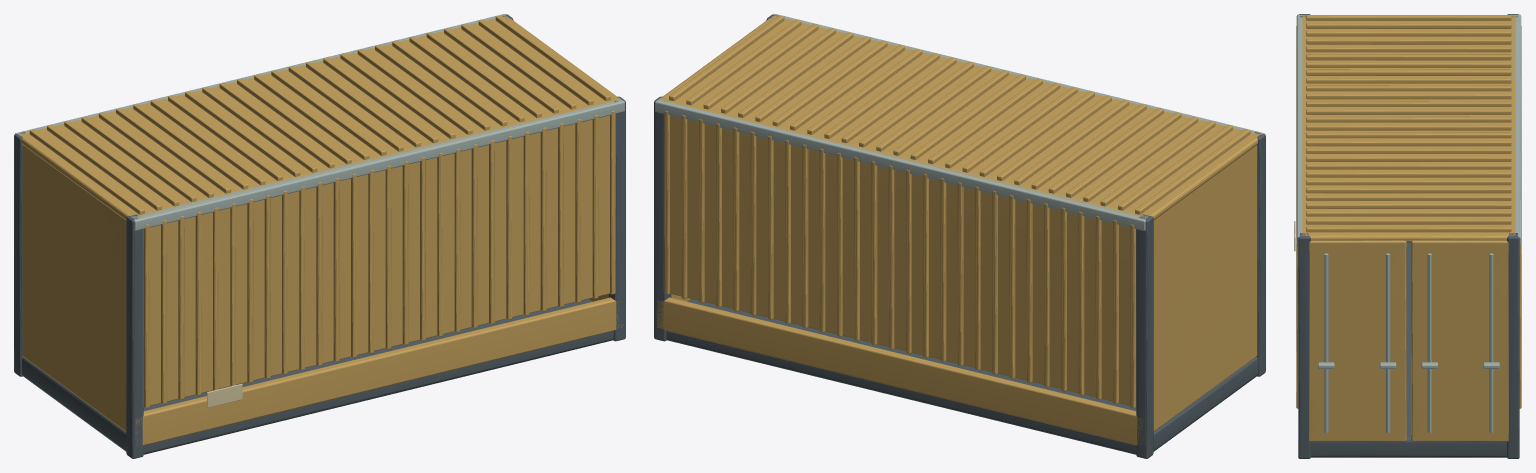
The model's file is container_closed.glb.
The picture shows the model from 3 angles, left to right: view 1: azimuth 30°, elevation 25°; view 2: azimuth 150°, elevation 25°; view 3: azimuth 270°, elevation 25°; orthographic projection. The views are drawn at different scales.
Visible parts, largest first — view 1: Occlude_WallFront_Mesh, Occlude_Roof_Mesh, Keep_Mesh, Occlude_EndCap_Mesh, Occlude_WallBack_Mesh; view 2: Occlude_WallBack_Mesh, Occlude_Roof_Mesh, Keep_Mesh, Occlude_EndCap_Mesh, Occlude_WallFront_Mesh; view 3: Occlude_Roof_Mesh, Occlude_DoorUpper_Mesh, Keep_Mesh, Occlude_WallBack_Mesh, Occlude_WallFront_Mesh.
Boxes of the visible parts, <box> form: Occlude_WallFront_Mesh: <box>132,97,624,408</box>; Occlude_Roof_Mesh: <box>19,15,620,220</box>; Keep_Mesh: <box>14,14,625,458</box>; Occlude_EndCap_Mesh: <box>22,145,126,431</box>; Occlude_WallBack_Mesh: <box>15,14,507,136</box>; Occlude_WallBack_Mesh: <box>655,97,1148,408</box>; Occlude_Roof_Mesh: <box>659,15,1260,220</box>; Keep_Mesh: <box>654,14,1265,458</box>; Occlude_EndCap_Mesh: <box>1153,145,1257,431</box>; Occlude_WallFront_Mesh: <box>772,14,1264,134</box>; Occlude_Roof_Mesh: <box>1302,15,1515,242</box>; Occlude_DoorUpper_Mesh: <box>1309,240,1508,441</box>; Keep_Mesh: <box>1294,14,1519,458</box>; Occlude_WallBack_Mesh: <box>1510,14,1521,408</box>; Occlude_WallFront_Mesh: <box>1296,14,1306,408</box>.
Bounding box in the file's own units: 5.96 × 2.75 × 2.5.
